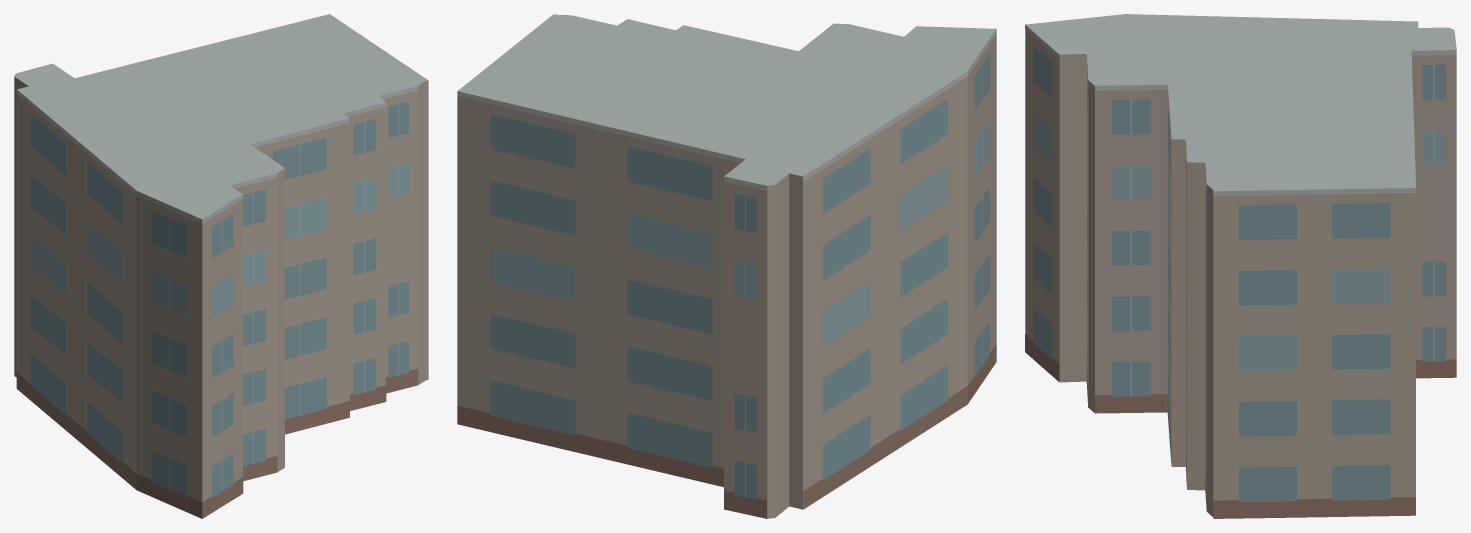
File: survey-upis-32474813.glb
3 renders of one model, left to right at view 1: azimuth 30°, elevation 25°; view 2: azimuth 150°, elevation 25°; view 3: azimuth 270°, elevation 25°, orthographic. The views are drawn at different scales.
Visible parts, largest first — view 1: survey-upis-32474813.tmp; view 2: survey-upis-32474813.tmp; view 3: survey-upis-32474813.tmp.
Boxes of the visible parts, box(x1,y1,x2,y2) form: survey-upis-32474813.tmp: box(14, 14, 428, 518); survey-upis-32474813.tmp: box(457, 14, 996, 518); survey-upis-32474813.tmp: box(1025, 14, 1456, 518).
Bounding box in the file's own units: 18.19 × 15.67 × 18.71.
